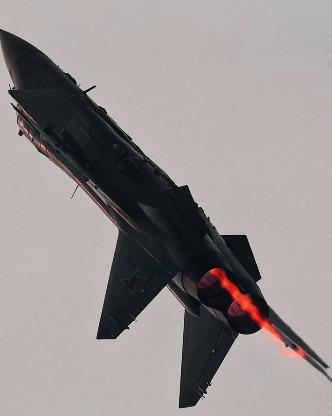Mig31: (1, 16, 331, 410)
